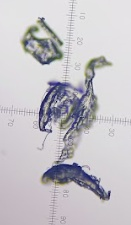microplastic: (50, 55, 114, 167), (38, 80, 100, 136), (39, 162, 112, 202), (19, 25, 65, 66), (35, 16, 63, 46)
